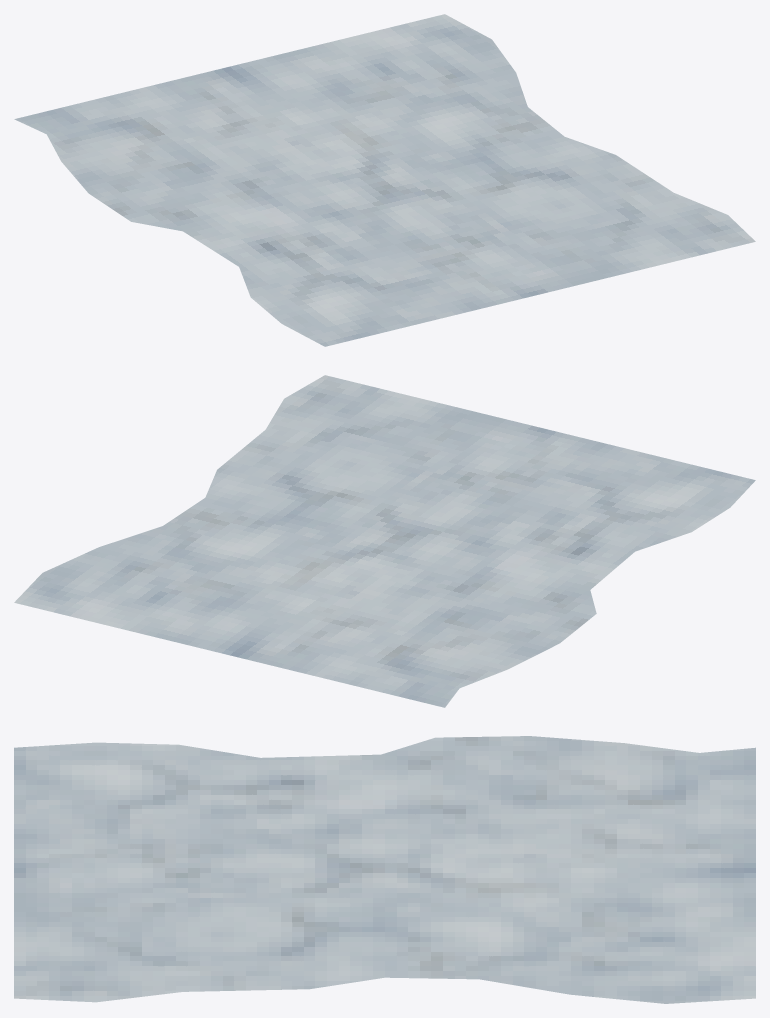
Rendered from SnowyRoad Straight.fbx.
3 views of the same model, one above another, from view 1: azimuth 30°, elevation 25°; view 2: azimuth 150°, elevation 25°; view 3: azimuth 270°, elevation 25° (orthographic). The views are drawn at different scales.
Visible parts, largest first — view 1: SnowyRoad_Straight; view 2: SnowyRoad_Straight; view 3: SnowyRoad_Straight.
Boxes of the visible parts, x1=… form: SnowyRoad_Straight: x1=14, y1=14, x2=755, y2=346; SnowyRoad_Straight: x1=14, y1=375, x2=755, y2=707; SnowyRoad_Straight: x1=14, y1=736, x2=755, y2=1003.
Bounding box in the file's own units: 0.8546 × 0 × 1.
